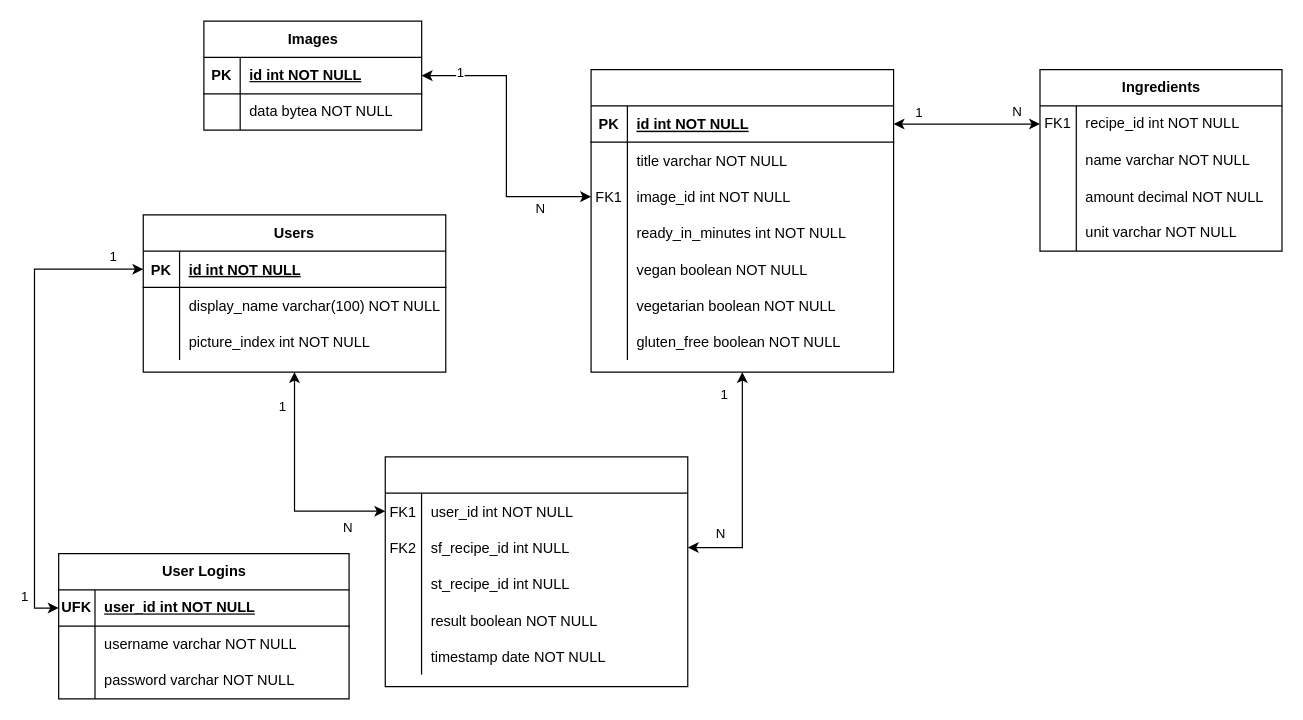
Some shapes in this 1303 by 720 pixel diagram are drawn without their labels. Here are the shapes that lost their labels. From the top down, the box of each, then its label:
(590, 68, 894, 372): Recipes
(384, 456, 688, 687): Recipe Swipes
